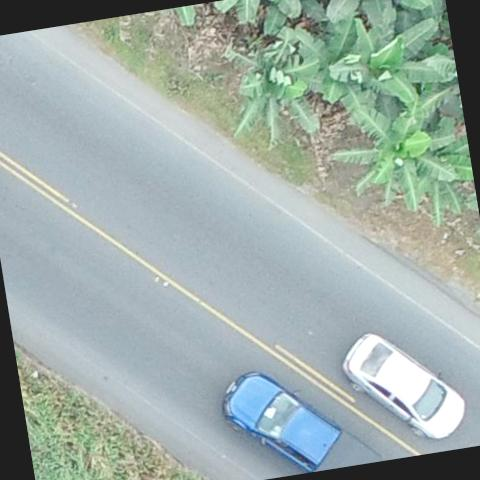Banana-plant: (323, 93, 459, 214), (326, 9, 461, 120), (220, 40, 320, 150), (325, 0, 437, 41)
